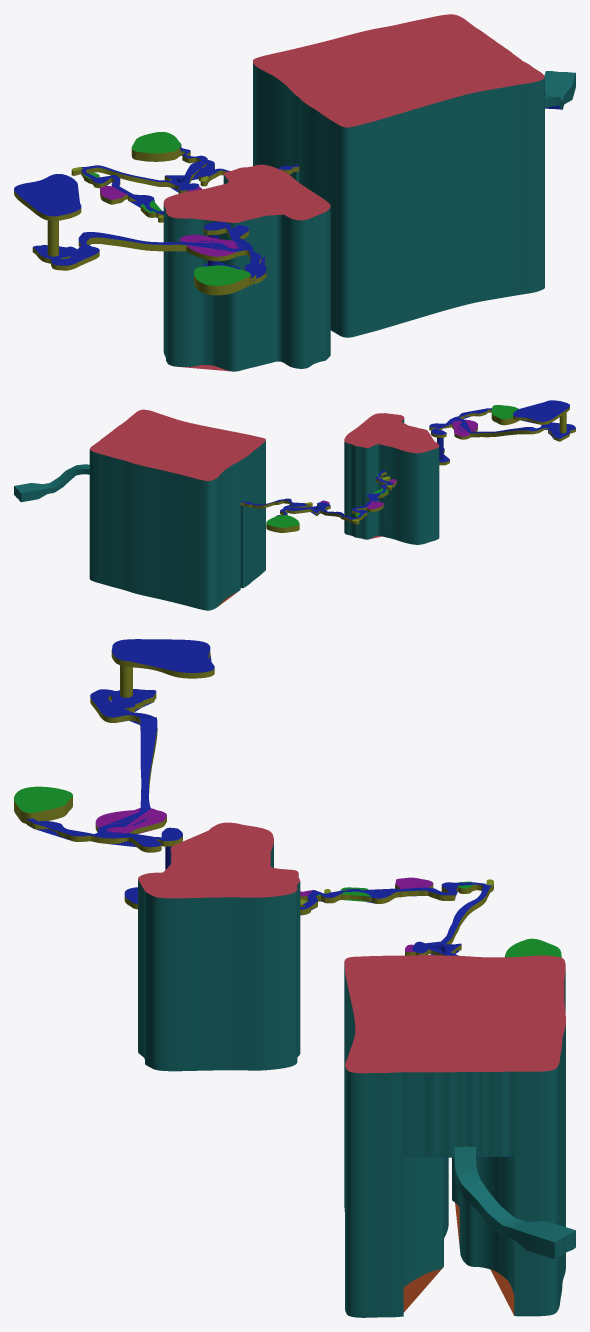
Rendered from World-Whitebox - Dungeon - Draft Final V4.fbx.
3 views of the same model, one above another, from view 1: azimuth 30°, elevation 25°; view 2: azimuth 150°, elevation 25°; view 3: azimuth 270°, elevation 25° (orthographic). The views are drawn at different scales.
Visible parts, largest first — view 1: Dungeon Floor Layout (Floor 1-4) 3D; view 2: Dungeon Floor Layout (Floor 1-4) 3D; view 3: Dungeon Floor Layout (Floor 1-4) 3D.
Part boxes in pixels (x1,y1,x2,y2): Dungeon Floor Layout (Floor 1-4) 3D: [14, 14, 575, 371]; Dungeon Floor Layout (Floor 1-4) 3D: [14, 400, 575, 610]; Dungeon Floor Layout (Floor 1-4) 3D: [14, 639, 575, 1317].
Size of the model in its own units: 54851 by 21185 by 31972.
